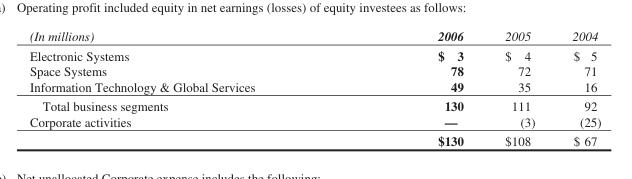table: (28, 28, 600, 147)
table column: (28, 28, 345, 147), (345, 28, 483, 147), (483, 28, 553, 147), (553, 28, 600, 147)
table column header: (28, 28, 600, 45)
table row: (28, 45, 600, 63), (28, 95, 600, 113), (28, 28, 600, 45), (28, 78, 600, 95), (28, 113, 600, 130), (28, 130, 600, 147), (28, 63, 600, 78)
